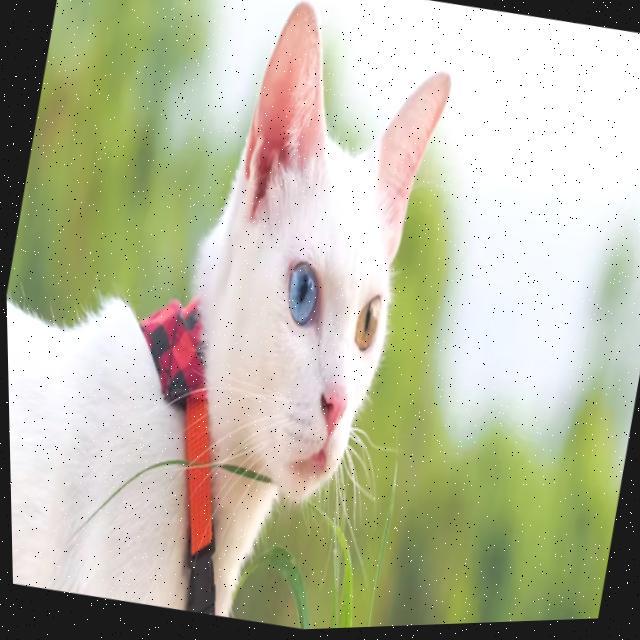Khao Manee: (0, 0, 474, 640)
